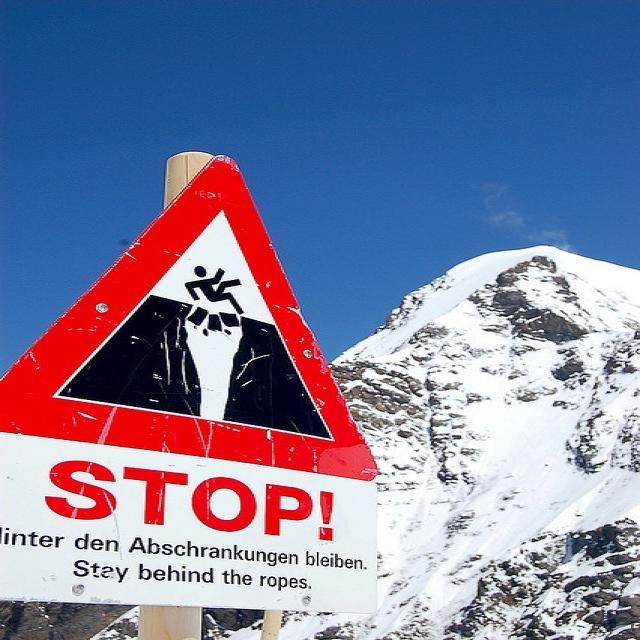pole: (125, 147, 225, 639)
